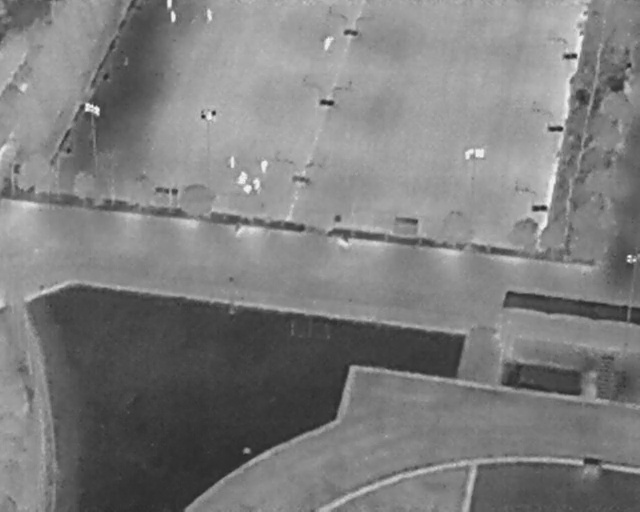Person: (320, 33, 335, 53), (205, 8, 214, 24), (239, 171, 248, 184), (260, 160, 268, 174), (253, 177, 261, 191), (170, 10, 177, 23), (229, 156, 236, 169), (243, 184, 252, 194), (167, 0, 173, 10)
